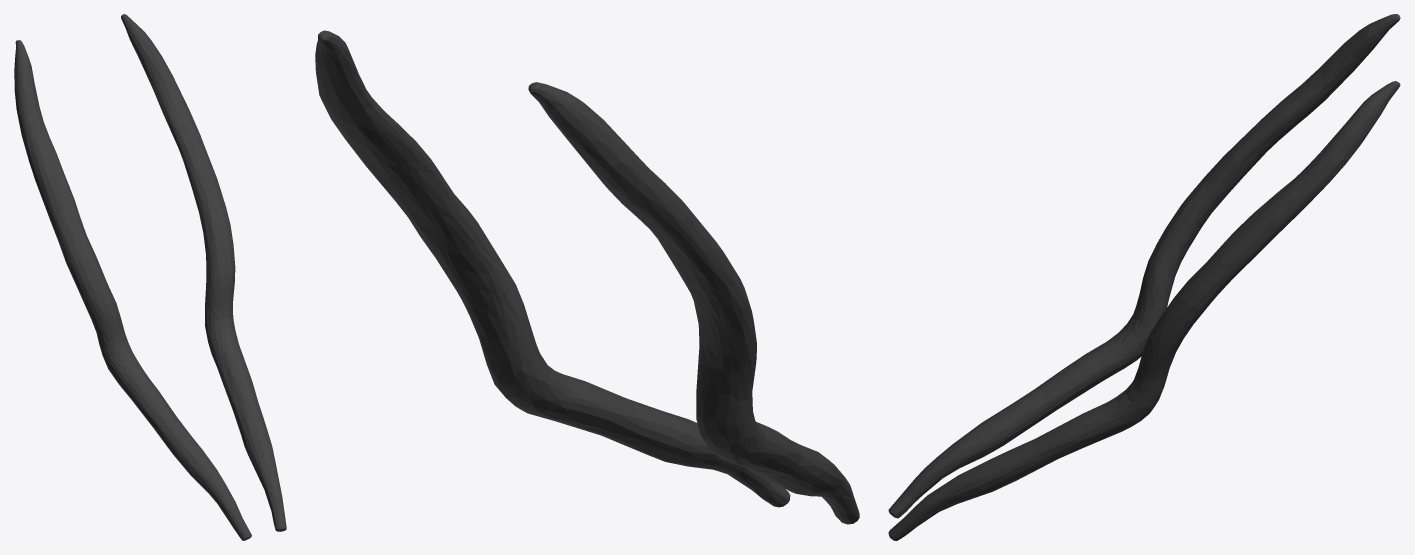
Rendered from m_longus_capitis.glb.
3 views of the same model, side by side, from view 1: azimuth 30°, elevation 25°; view 2: azimuth 150°, elevation 25°; view 3: azimuth 270°, elevation 25° (orthographic). The views are drawn at different scales.
Visible parts, largest first — view 1: m_longus_capitis; view 2: m_longus_capitis; view 3: m_longus_capitis.
Boxes of the visible parts, x1=… form: m_longus_capitis: x1=14, y1=14, x2=286, y2=540; m_longus_capitis: x1=315, y1=30, x2=859, y2=524; m_longus_capitis: x1=888, y1=14, x2=1400, y2=540.
Size of the model in its own units: 0.00163 by 0.00348 by 0.00336.
Materials: 1 (1 with a texture image).
